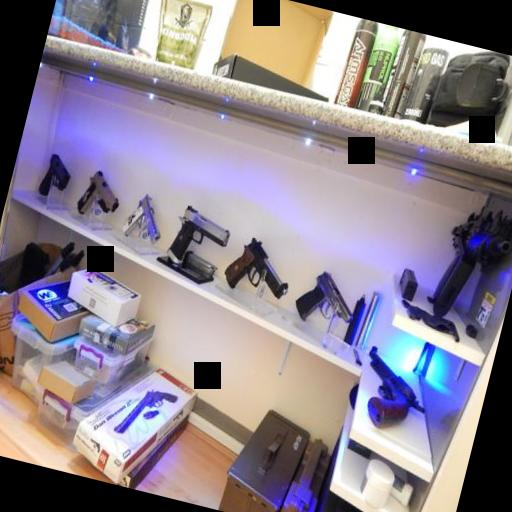Handgun: (344, 343, 434, 456), (156, 196, 234, 298), (288, 258, 360, 346), (223, 230, 294, 304), (110, 191, 170, 252), (74, 162, 122, 230), (29, 138, 76, 206)
